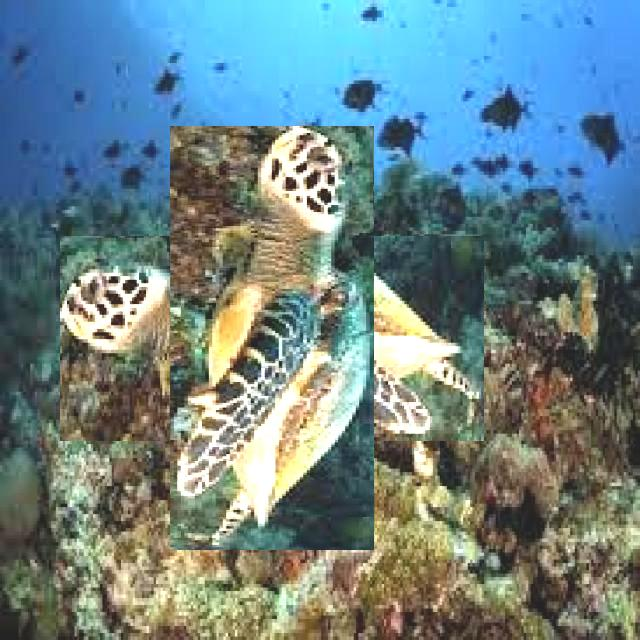Sea turtle: (115, 181, 429, 496)
